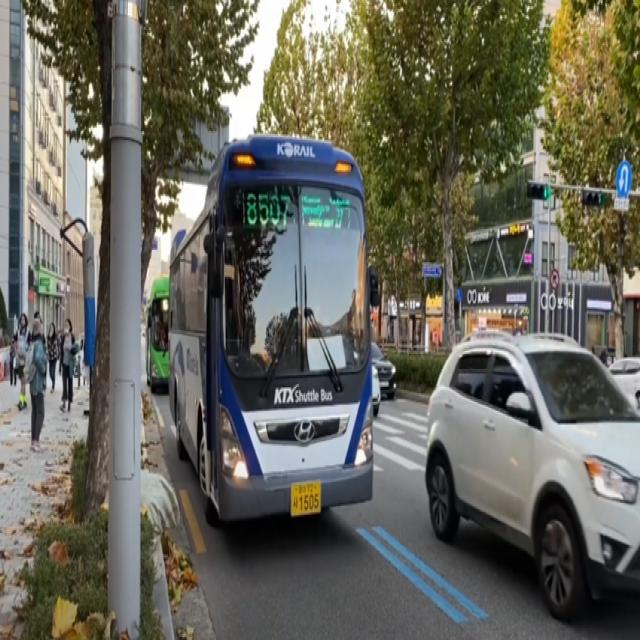bus-number: (246, 192, 291, 228)
